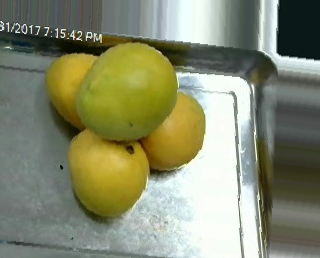Mango: (75, 40, 179, 143), (69, 124, 148, 220), (134, 86, 206, 169), (47, 52, 119, 130)
